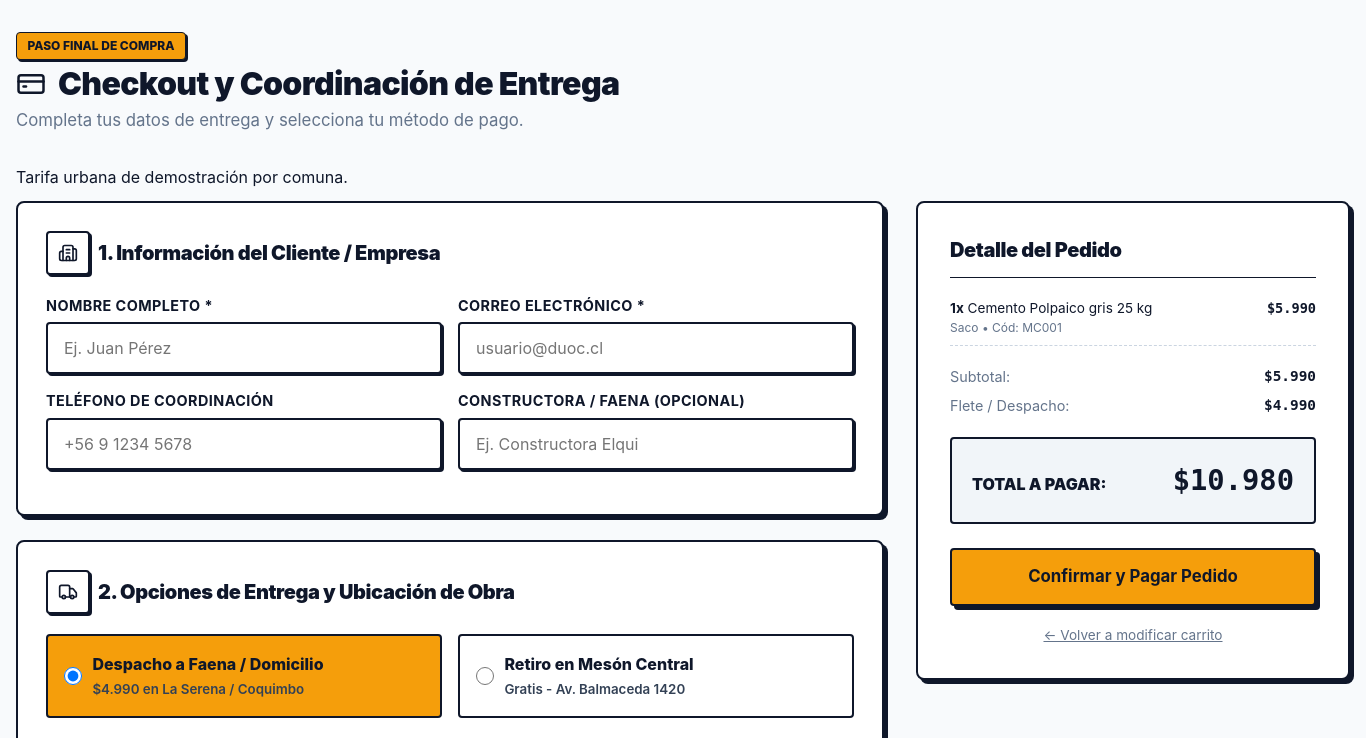
it: Checkout completo › muestra el error del servicio sin informar compra exitosa
This screenshot has width=1366, height=738.
Type "Cliente de prueba" into the field labelled "Nombre Completo *".
click(244, 348); type("Cliente de prueba")  # box [46,322,442,374]
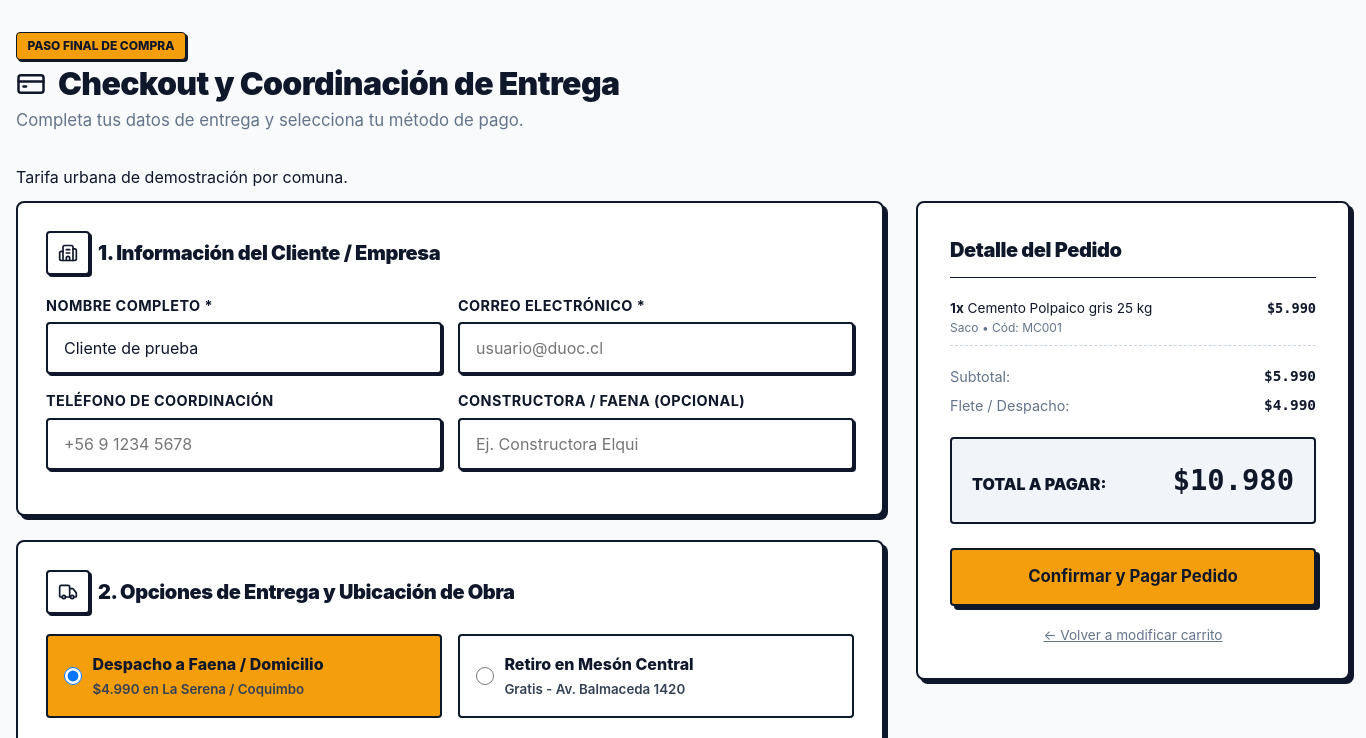
Type "prueba@gmail.com" into the field labelled "Correo Electrónico *".
click(656, 348); type("prueba@gmail.com")  # box [458,322,854,374]
(page scrolled)
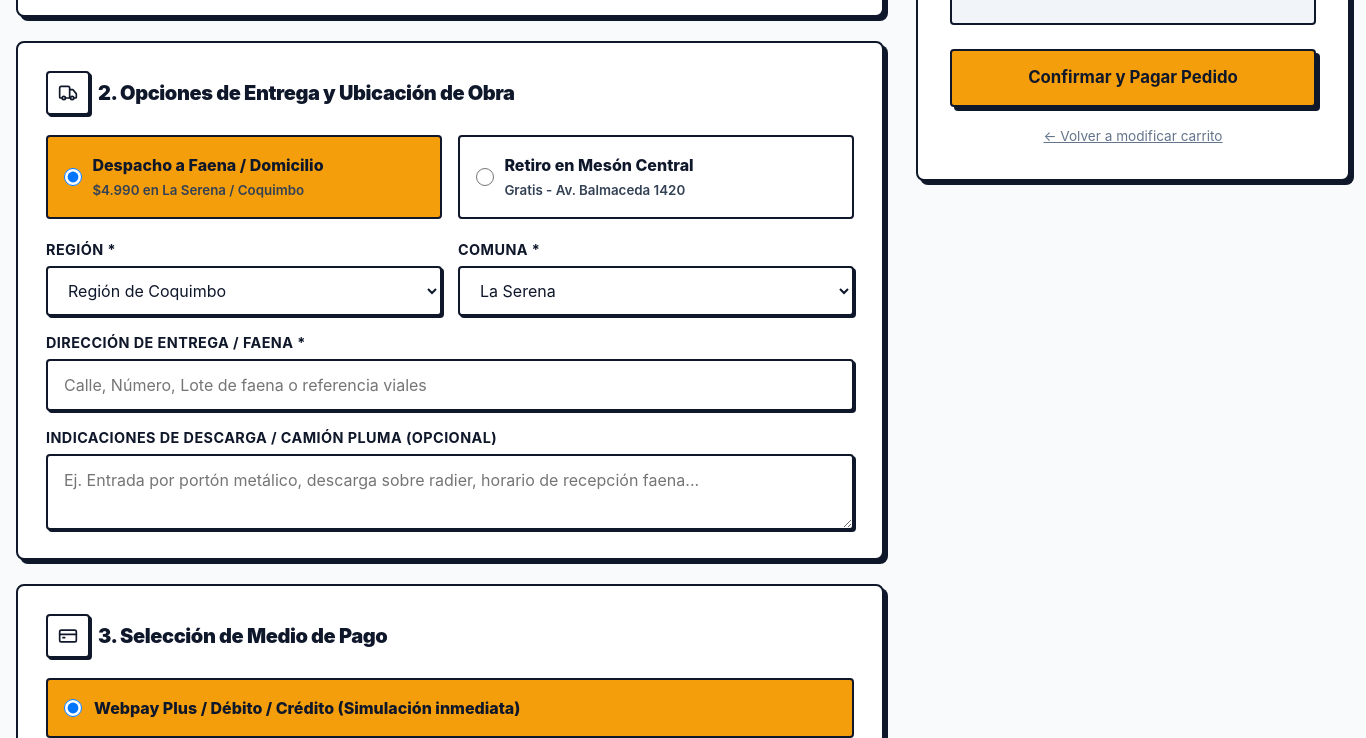
Type "Dirección ficticia 123" into the field labelled "Dirección de Entrega / Faena *".
click(450, 385); type("Dirección ficticia 123")  # box [46,359,854,411]
(page scrolled)
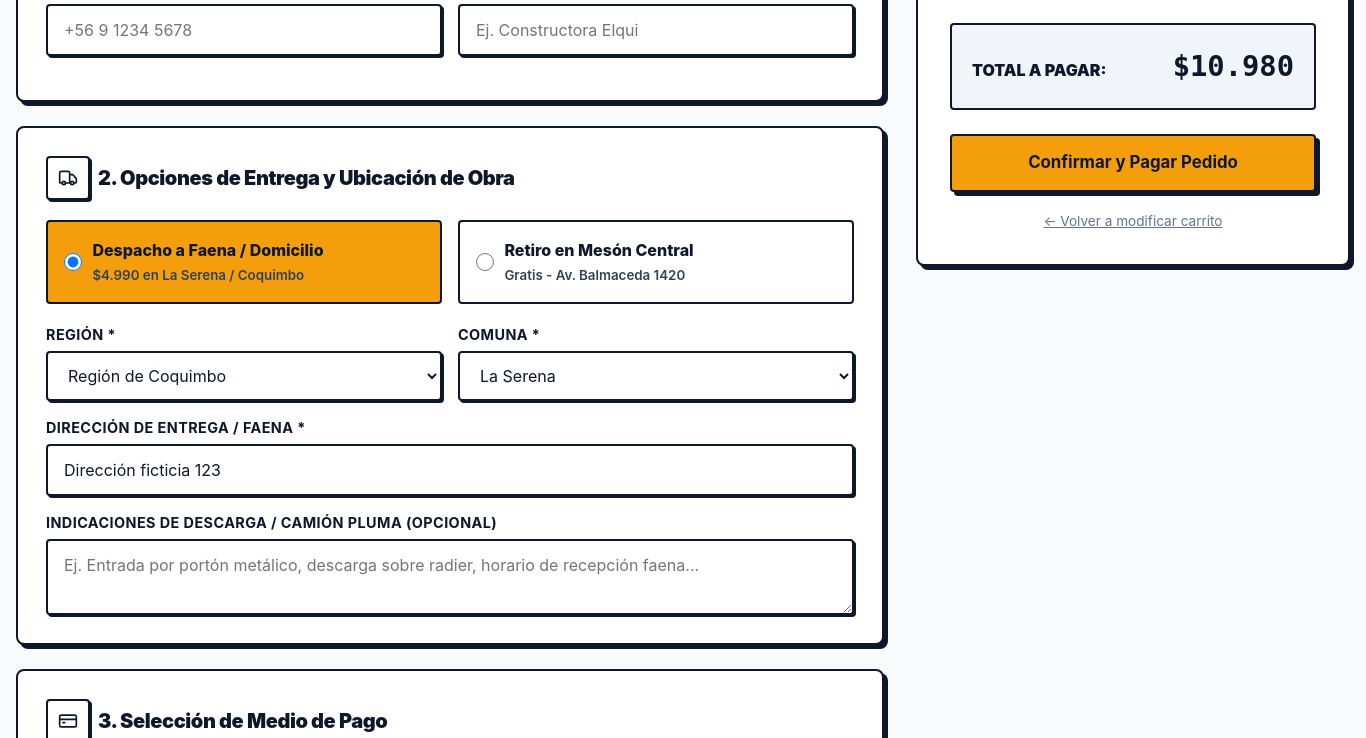
Submit the form with test id "checkout-form"
(page scrolled)
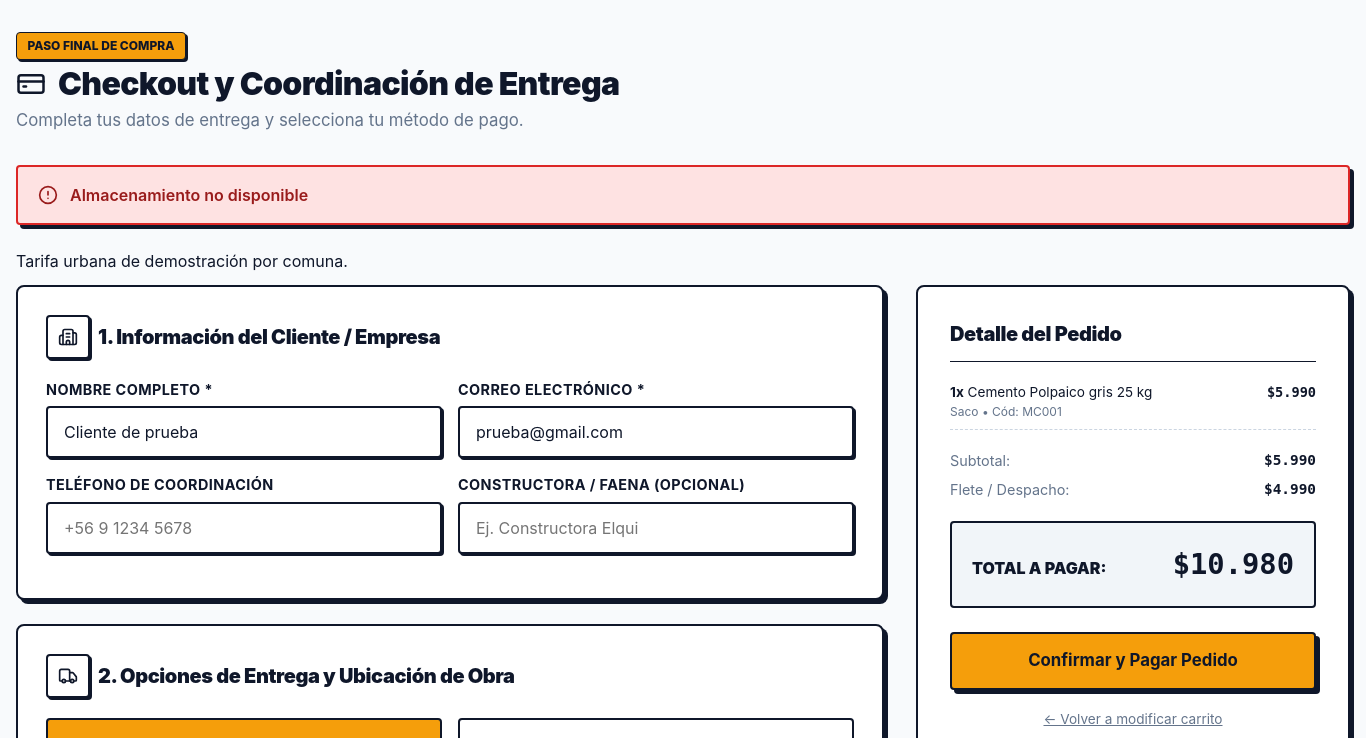
Result: the text "Almacenamiento no disponible" is shown at [70,183,308,207]
